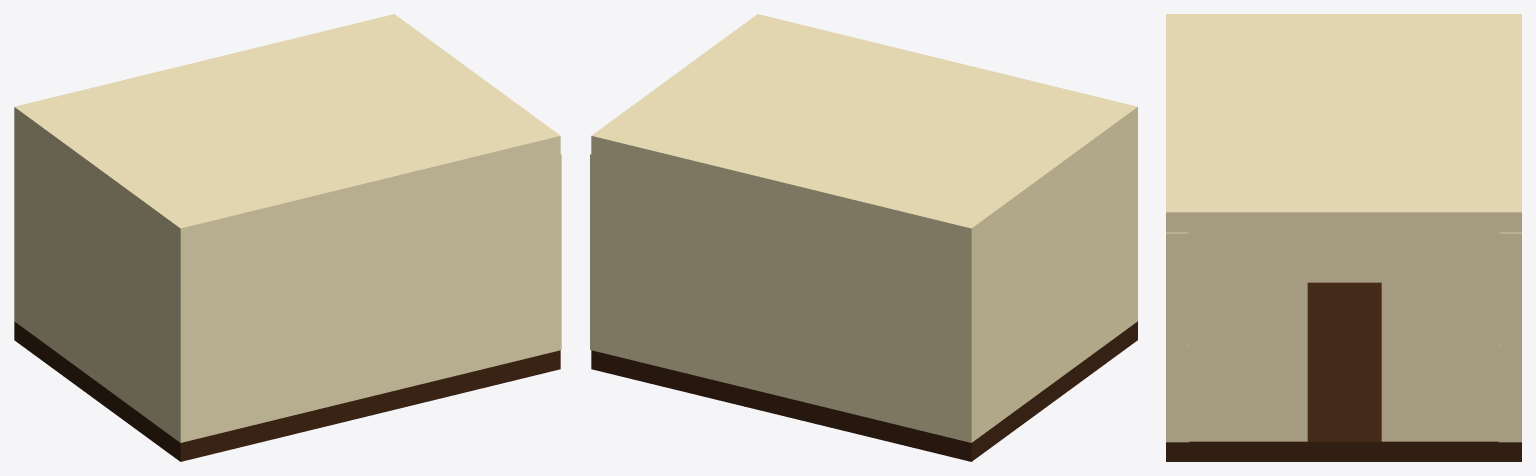
The model's file is Badezimmer.fbx.
3 views of the same model, side by side, from view 1: azimuth 30°, elevation 25°; view 2: azimuth 150°, elevation 25°; view 3: azimuth 270°, elevation 25° (orthographic). The views are drawn at different scales.
Parts seen in each view (by area): view 1: Cube.003, Cube.001, Cube.002, Cube.004; view 2: Cube.003, Cube, Cube.002, Cube.004; view 3: Cube.003, Cube.007, Cube.004, Cube, Cube.001.
Part boxes in pixels (x1,y1,x2,y2): Cube.003: (14,14,560,247); Cube.001: (198,154,561,438); Cube.002: (14,126,198,442); Cube.004: (14,321,560,461); Cube.003: (591,14,1137,247); Cube: (590,154,953,438); Cube.002: (953,126,1137,442); Cube.004: (591,321,1137,461); Cube.003: (1166,14,1521,232); Cube.007: (1188,232,1499,441); Cube.004: (1166,282,1521,461); Cube: (1498,232,1521,442); Cube.001: (1166,232,1189,442).
Size of the model in its own units: 510 by 298 by 385.
